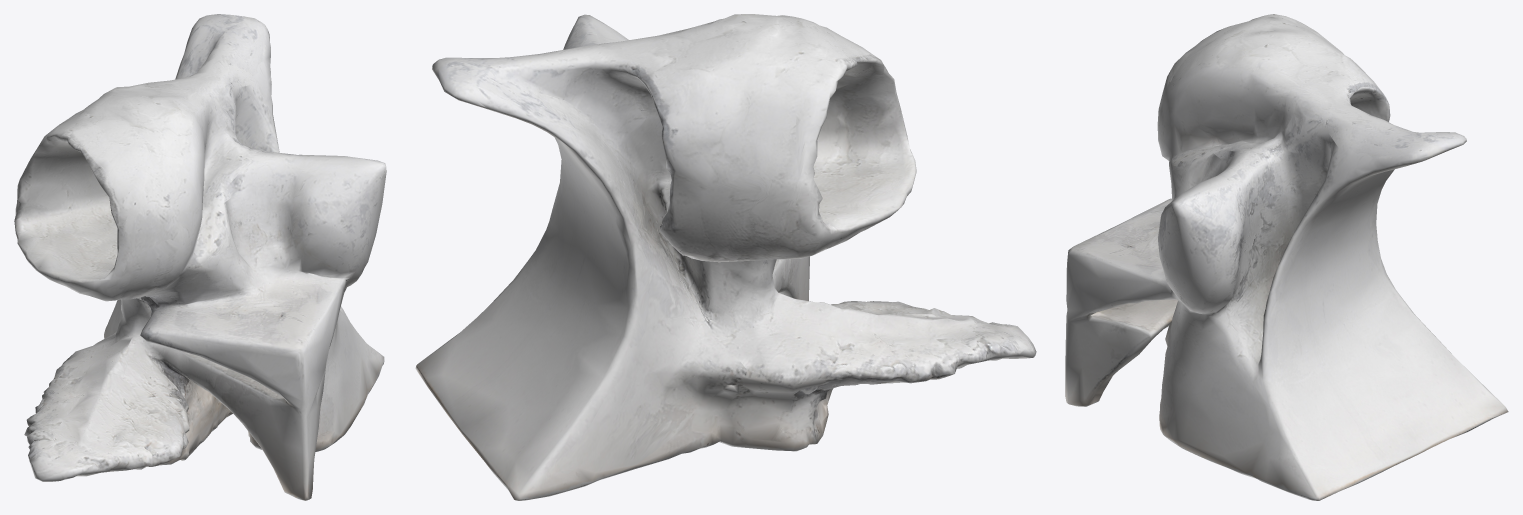
Rendered from 17_newyork.glb.
3 views of the same model, side by side, from view 1: azimuth 30°, elevation 25°; view 2: azimuth 150°, elevation 25°; view 3: azimuth 270°, elevation 25° (orthographic). The views are drawn at different scales.
Visible parts, largest first — view 1: Group7820; view 2: Group7820; view 3: Group7820.
Boxes of the visible parts, bbox=[...] form: Group7820: bbox=[14, 14, 386, 500]; Group7820: bbox=[415, 14, 1036, 500]; Group7820: bbox=[1065, 14, 1508, 500].
Bounding box in the file's own units: 5.21 × 3.88 × 4.62.
Materials: 1 (1 with a texture image).
